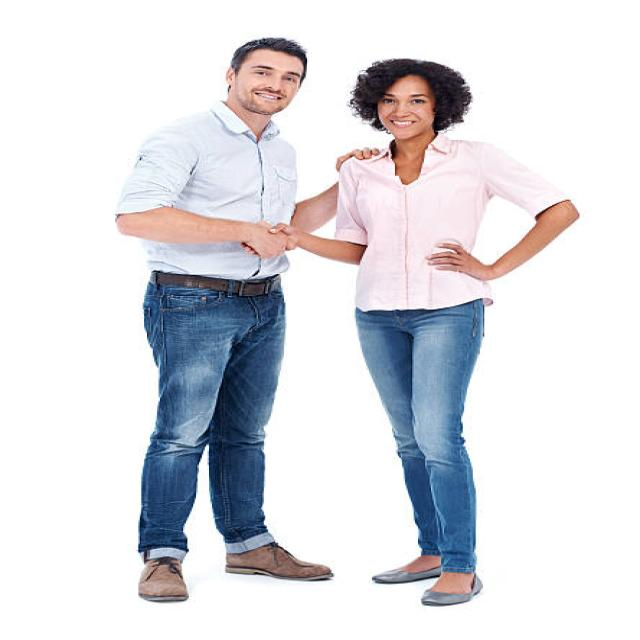Edited images: (95, 24, 573, 611)
